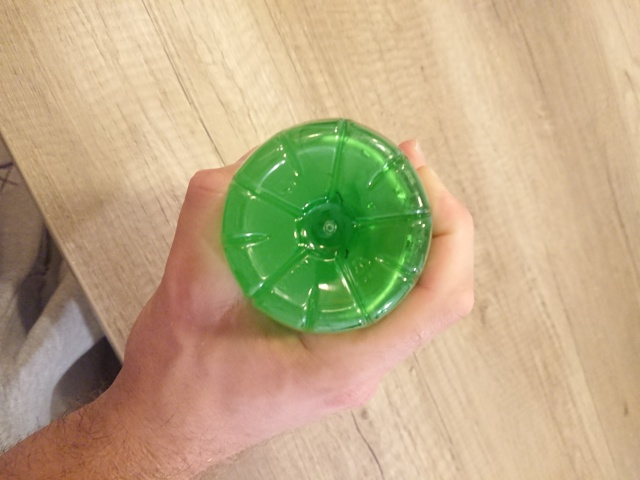Vindi Iso Sport Lemon-Grapefruit 500mL: (215, 113, 438, 341)
